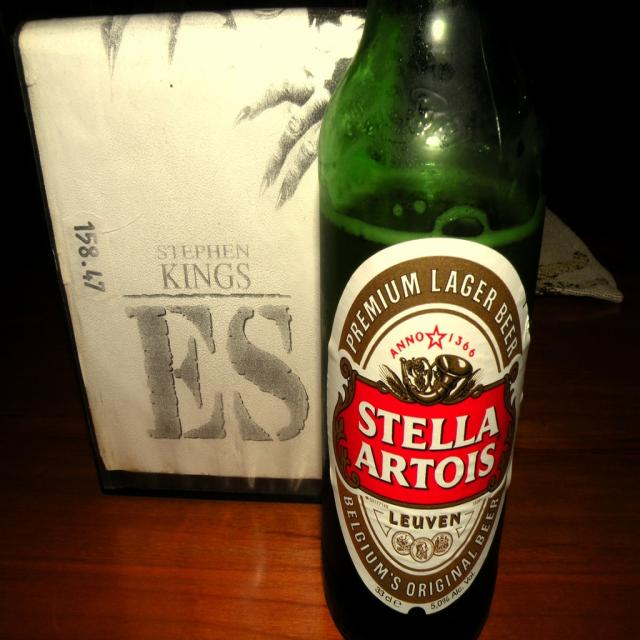stellaartois: (332, 256, 522, 605)
